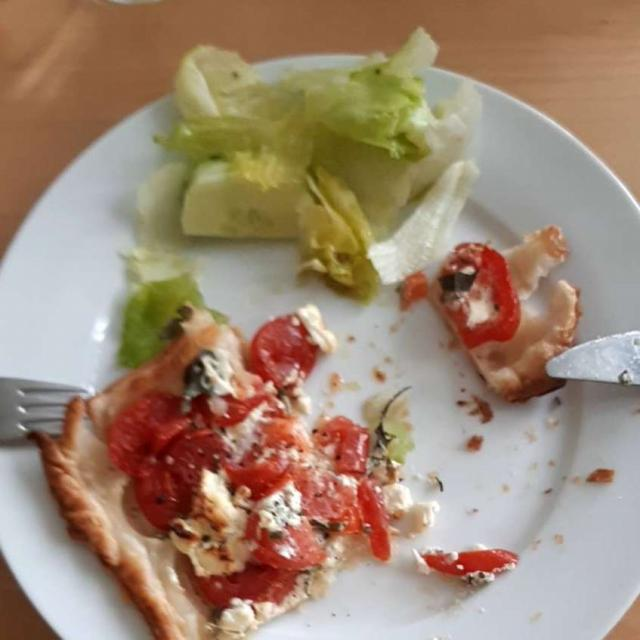cucumber: (183, 165, 304, 240)
salad-leaf-salad-green: (162, 30, 485, 283)
